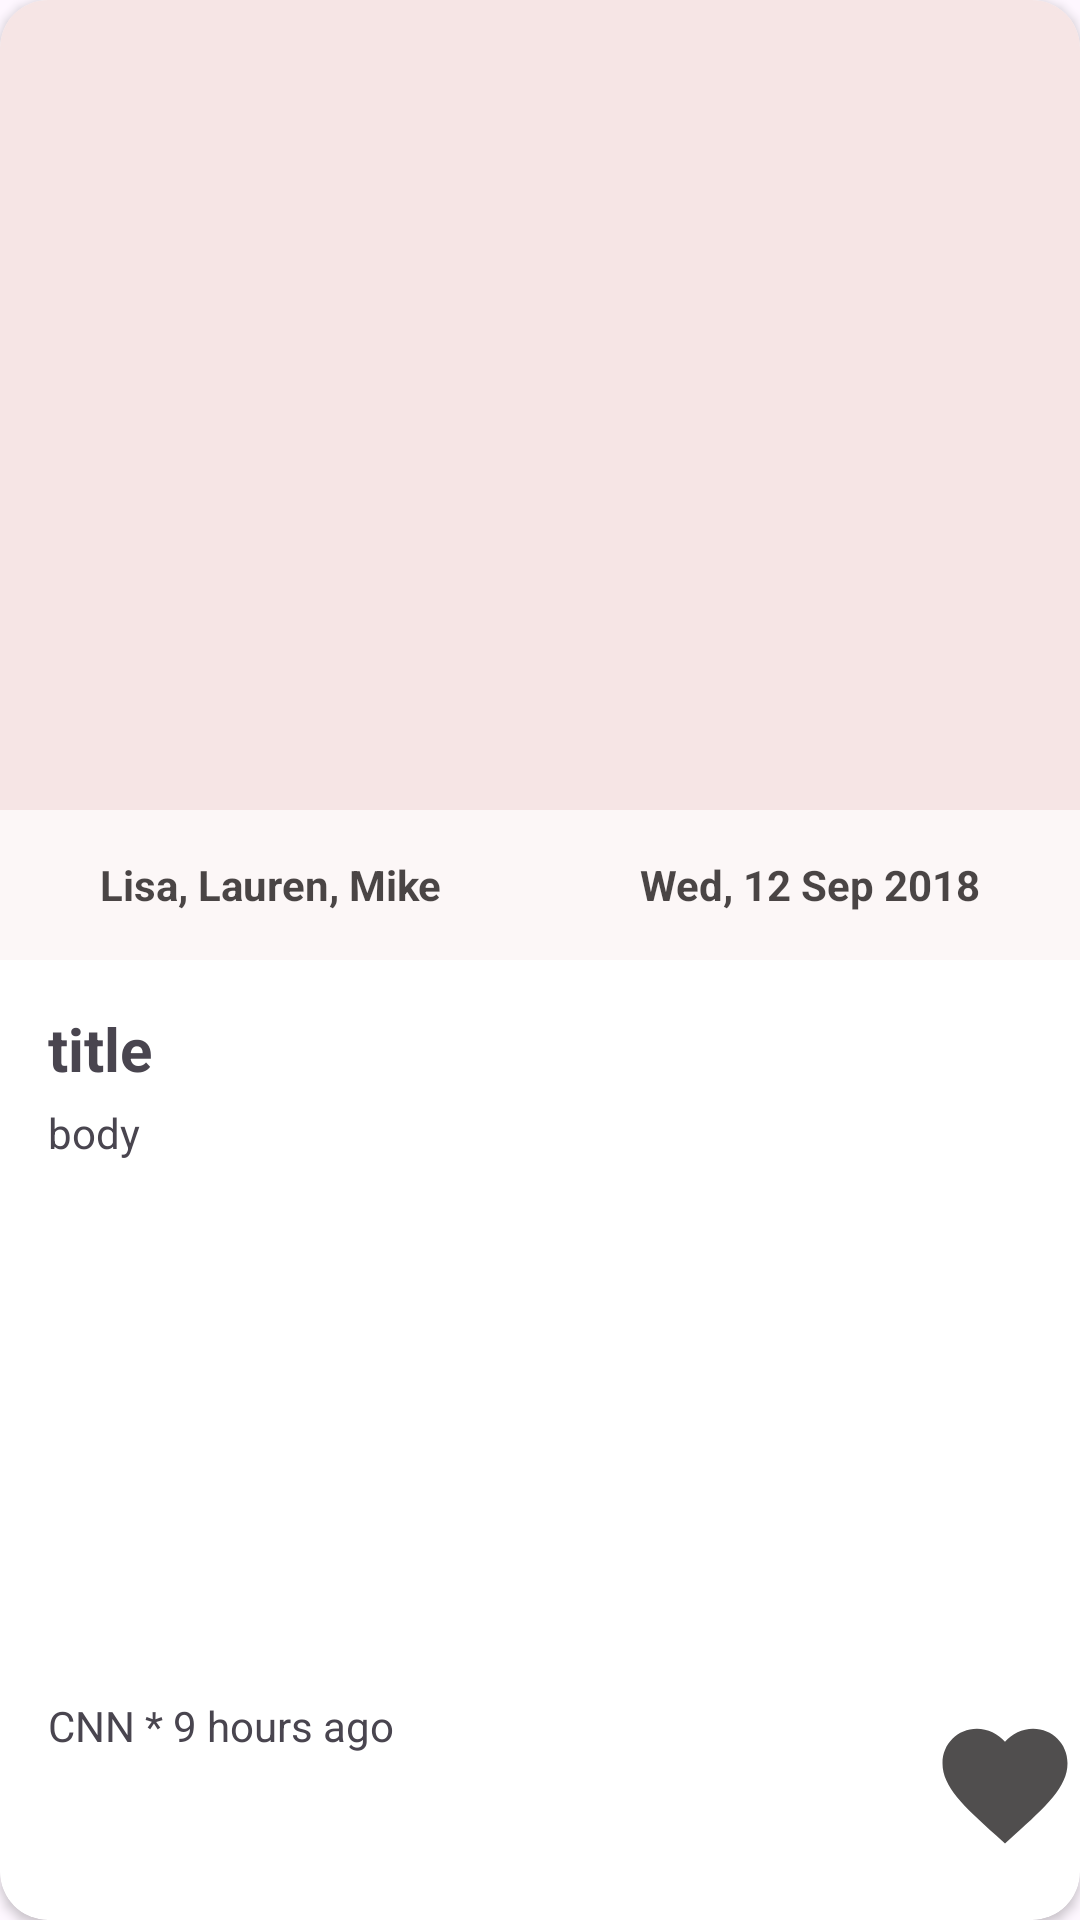

Point at icon controls on the screen. Image size 1080*1920, points as [x,y].
favorite false: [1005,1785]
